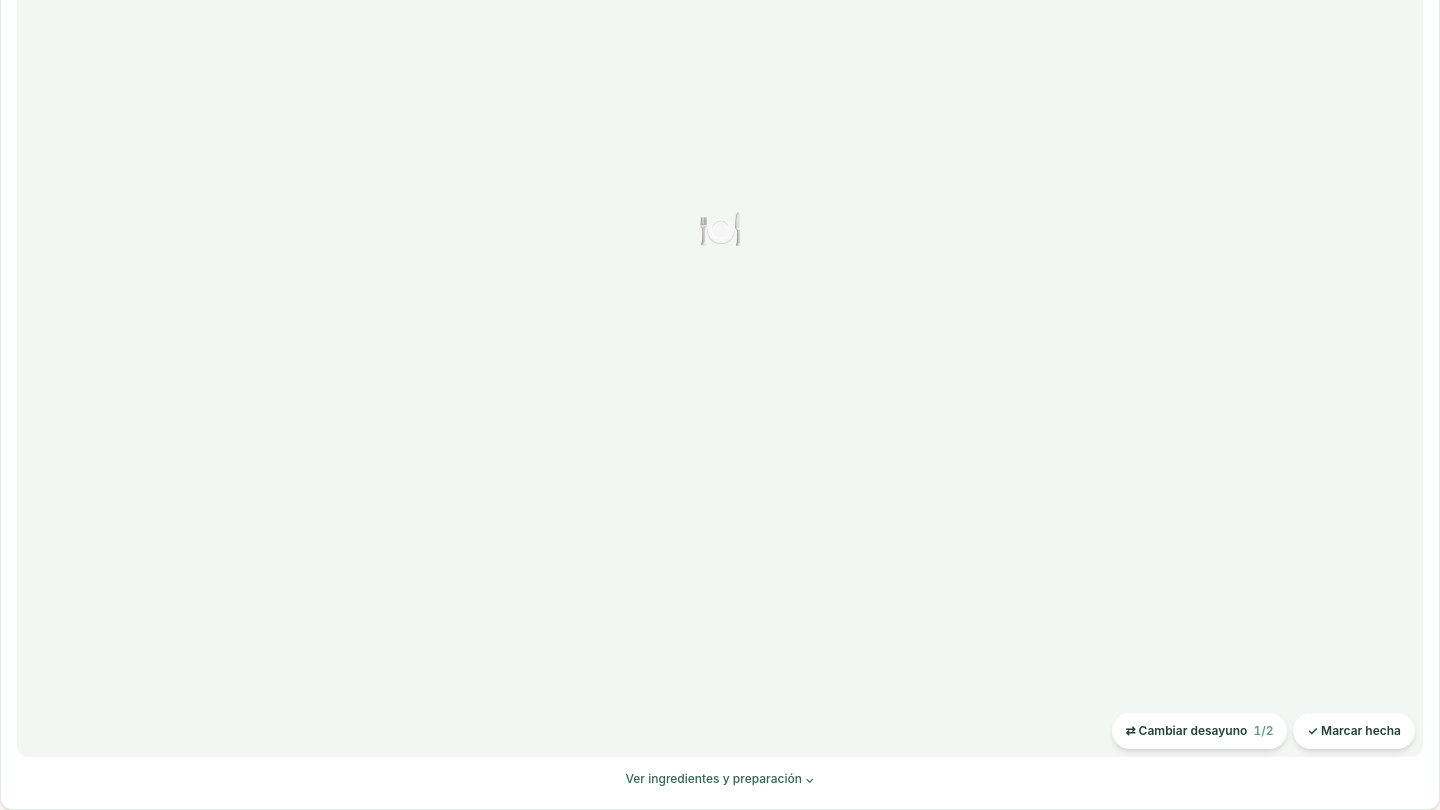
Elegir entre las opciones › y al elegir se cierra la lista
(page scrolled)
Click the button "⇄ Cambiar desayuno 1/2" at (1199, 730), box [1112,712,1287,748]
(page scrolled)
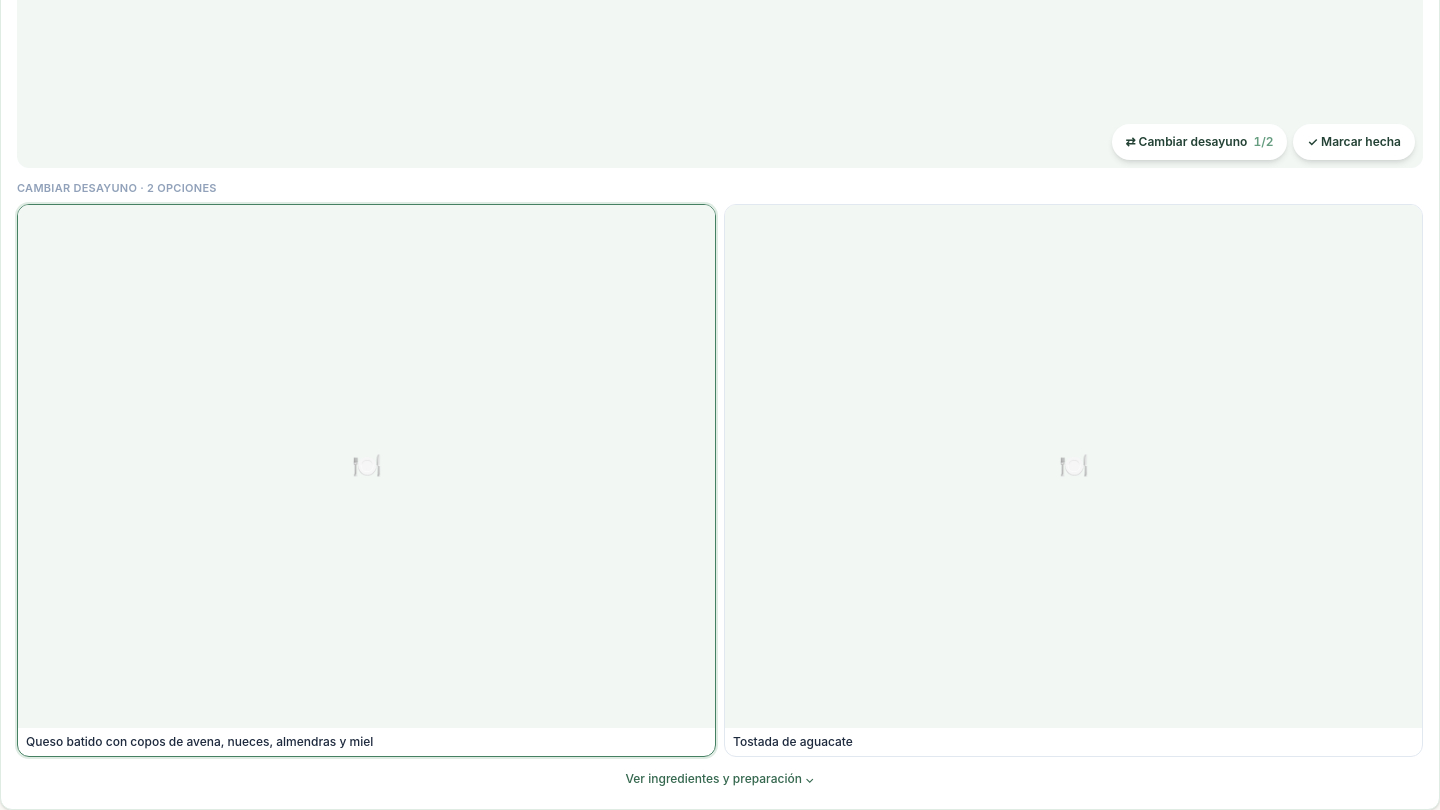
Click the text "Tostada de aguacate" at (793, 741), box [733,734,853,749]
(page scrolled)
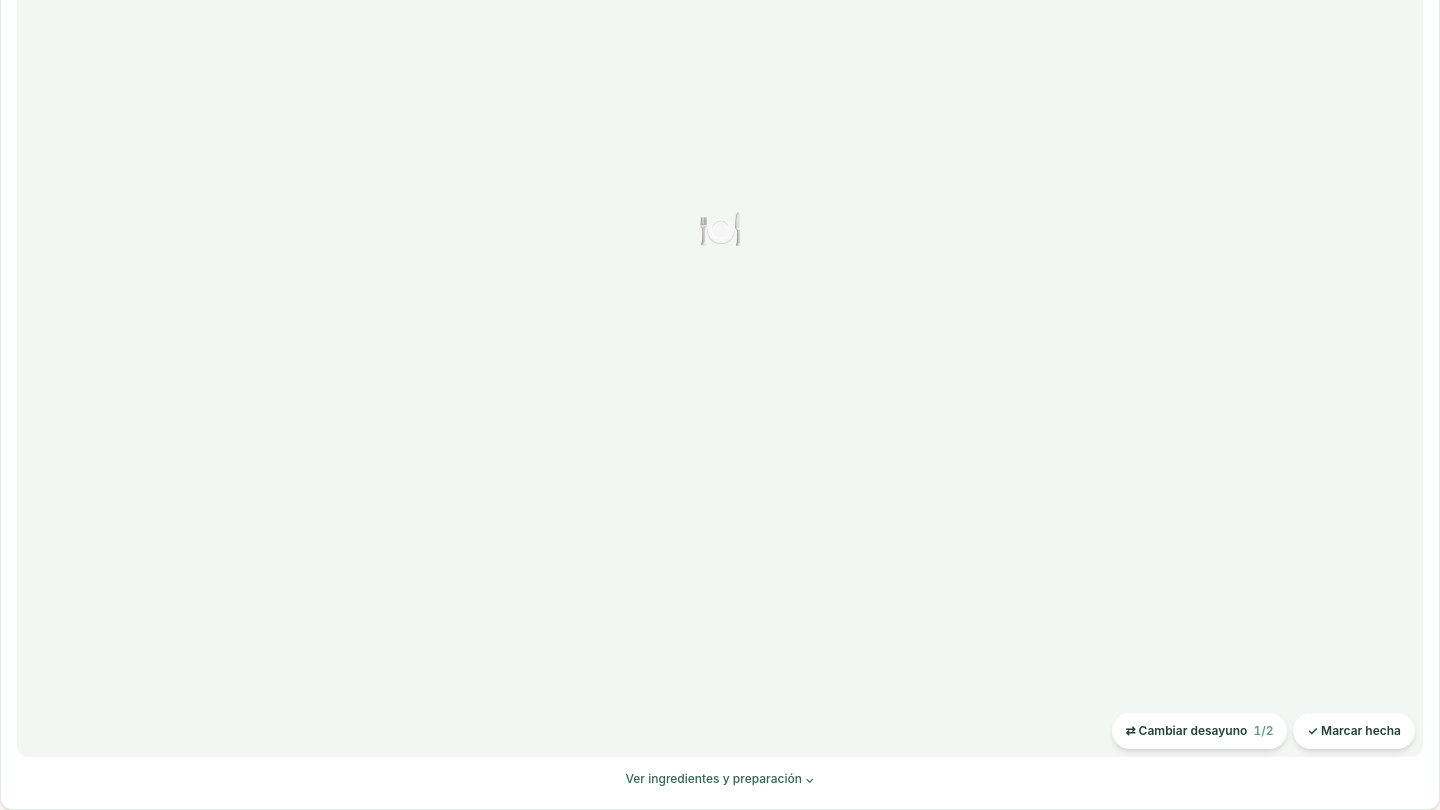
Expected: the text "2 opciones" is gone
